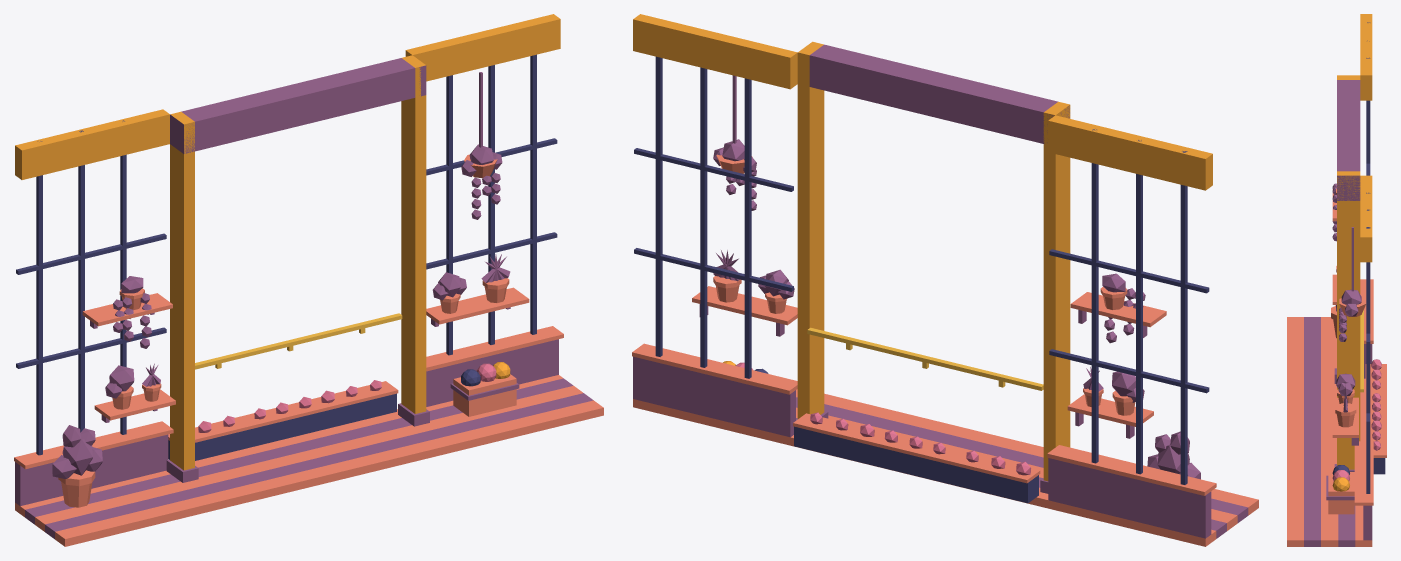
Rendered from loft.glb.
The picture shows the model from 3 angles, left to right: view 1: azimuth 30°, elevation 25°; view 2: azimuth 150°, elevation 25°; view 3: azimuth 270°, elevation 25°; orthographic projection. The views are drawn at different scales.
Parts seen in each view (by area): view 1: Transom, Plank0, PostR, PostL, Plank1, HeadL, Plank2, HeadR, Plank3, KneeL, Planter, KneeR (+19 smaller); view 2: Transom, PostR, PostL, KneeL, KneeR, HeadL, HeadR, Planter, Plank4, PlanterLip, Plank0, Plank1 (+17 smaller); view 3: PostR, Plank0, Plank1, Plank2, Transom, PlanterLip, HeadR, HeadL, LedgeR, MullR2, Crate, Plank4 (+19 smaller).
Boxes of the visible parts, bbox=[...] form: Transom: bbox=[170, 58, 426, 153]; Plank0: bbox=[55, 400, 603, 546]; PostR: bbox=[401, 55, 426, 413]; PostL: bbox=[170, 111, 194, 470]; Plank1: bbox=[45, 393, 593, 539]; HeadL: bbox=[15, 109, 169, 179]; Plank2: bbox=[35, 385, 582, 531]; HeadR: bbox=[405, 14, 560, 81]; Plank3: bbox=[25, 378, 573, 524]; KneeL: bbox=[15, 434, 168, 506]; Planter: bbox=[168, 393, 396, 460]; KneeR: bbox=[426, 339, 558, 406]; Transom: bbox=[809, 44, 1069, 143]; PostR: bbox=[797, 41, 824, 418]; PostL: bbox=[1043, 101, 1070, 481]; KneeL: bbox=[1048, 458, 1211, 538]; KneeR: bbox=[633, 356, 795, 437]; HeadL: bbox=[1048, 115, 1212, 190]; HeadR: bbox=[633, 14, 797, 89]; Planter: bbox=[794, 426, 1038, 503]; Plank4: bbox=[633, 399, 1216, 546]; PlanterLip: bbox=[793, 413, 1040, 483]; Plank0: bbox=[796, 389, 1258, 515]; Plank1: bbox=[796, 397, 1248, 522]; PostR: bbox=[1337, 171, 1360, 469]; Plank0: bbox=[1287, 317, 1303, 546]; Plank1: bbox=[1304, 317, 1320, 546]; Plank2: bbox=[1321, 317, 1338, 546]; Transom: bbox=[1337, 80, 1360, 200]; PlanterLip: bbox=[1365, 364, 1386, 457]; HeadR: bbox=[1360, 175, 1372, 262]; HeadL: bbox=[1360, 14, 1372, 100]; LedgeR: bbox=[1354, 441, 1373, 505]; MullR2: bbox=[1366, 227, 1370, 493]; Crate: bbox=[1328, 472, 1354, 514]; Plank4: bbox=[1355, 378, 1372, 546].
Size of the model in its own units: 18 by 11.65 by 3.4.
